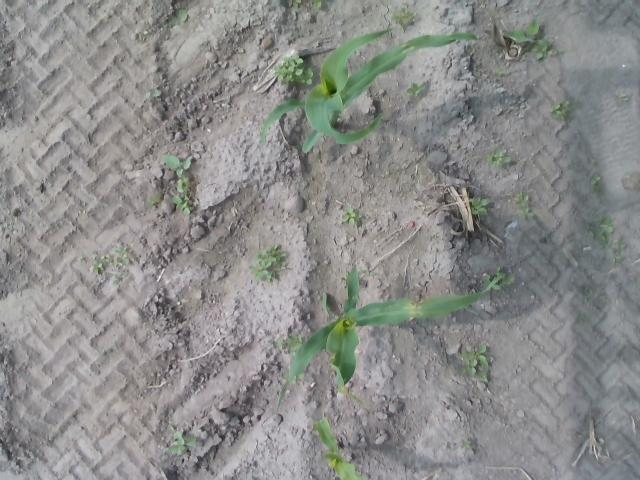Maize: (275, 262, 506, 411), (258, 29, 481, 155), (316, 420, 365, 478)
Weeds: (508, 18, 562, 60), (166, 154, 201, 218), (79, 249, 131, 285), (248, 243, 286, 284), (273, 54, 315, 90), (459, 344, 491, 384), (513, 188, 537, 220), (591, 214, 615, 245), (484, 268, 517, 290), (170, 432, 200, 456), (337, 206, 366, 230), (272, 335, 304, 353), (393, 8, 418, 30), (164, 10, 198, 24), (608, 238, 626, 264), (407, 80, 428, 102), (487, 150, 514, 167), (145, 189, 164, 213), (472, 196, 491, 218), (144, 84, 164, 104), (552, 100, 570, 122), (362, 264, 379, 283), (591, 172, 604, 193), (460, 437, 473, 451), (290, 1, 304, 12), (314, 3, 328, 13)
